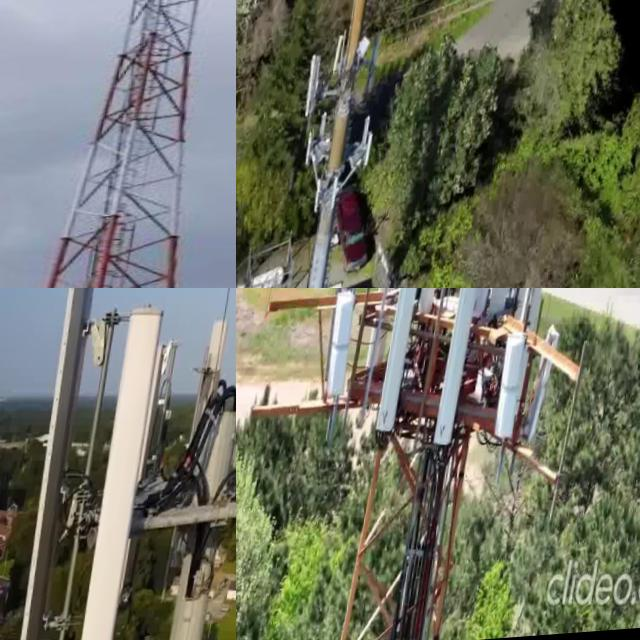GSM Antenna: (60, 297, 182, 640), (5, 288, 115, 640), (108, 327, 185, 640), (373, 288, 433, 444), (437, 288, 491, 458), (190, 303, 236, 500), (319, 290, 371, 422), (530, 330, 573, 460), (495, 328, 543, 441), (370, 288, 418, 373)
